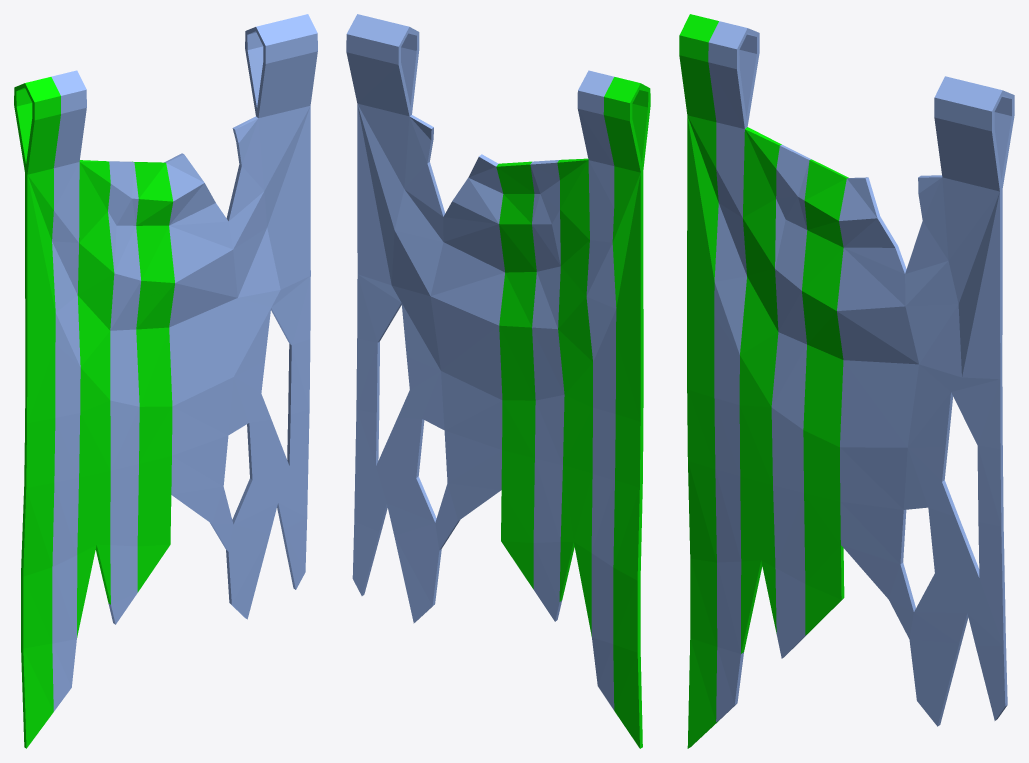
The model's file is SM_Flag_Banner_Small_C_Broken_Fantasy.fbx.
3 views of the same model, side by side, from view 1: azimuth 30°, elevation 25°; view 2: azimuth 150°, elevation 25°; view 3: azimuth 330°, elevation 25° (orthographic). The views are drawn at different scales.
Visible parts, largest first — view 1: flag-banner-small-c-broken-fantasy; view 2: flag-banner-small-c-broken-fantasy; view 3: flag-banner-small-c-broken-fantasy.
Boxes of the visible parts, x1=… form: flag-banner-small-c-broken-fantasy: x1=14, y1=14, x2=317, y2=748; flag-banner-small-c-broken-fantasy: x1=346, y1=14, x2=650, y2=748; flag-banner-small-c-broken-fantasy: x1=679, y1=14, x2=1014, y2=748.
Bounding box in the file's own units: 0.66 × 1.47 × 0.0831.
